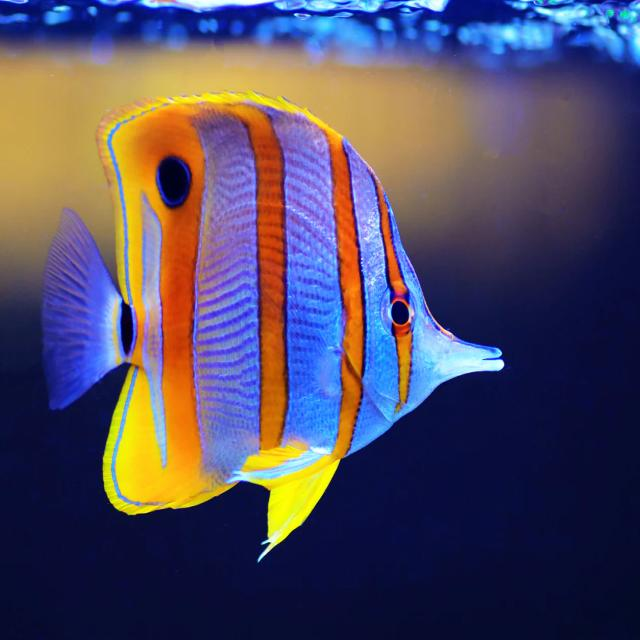ButterflyFish: (45, 95, 506, 566)
